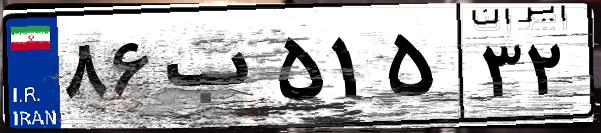1: (330, 28, 385, 110)
2: (525, 38, 570, 115)
3: (475, 38, 525, 113)
5: (270, 28, 330, 110), (385, 28, 445, 110)
6: (110, 28, 158, 98)
8: (57, 26, 110, 100)
ب: (158, 20, 270, 120)
